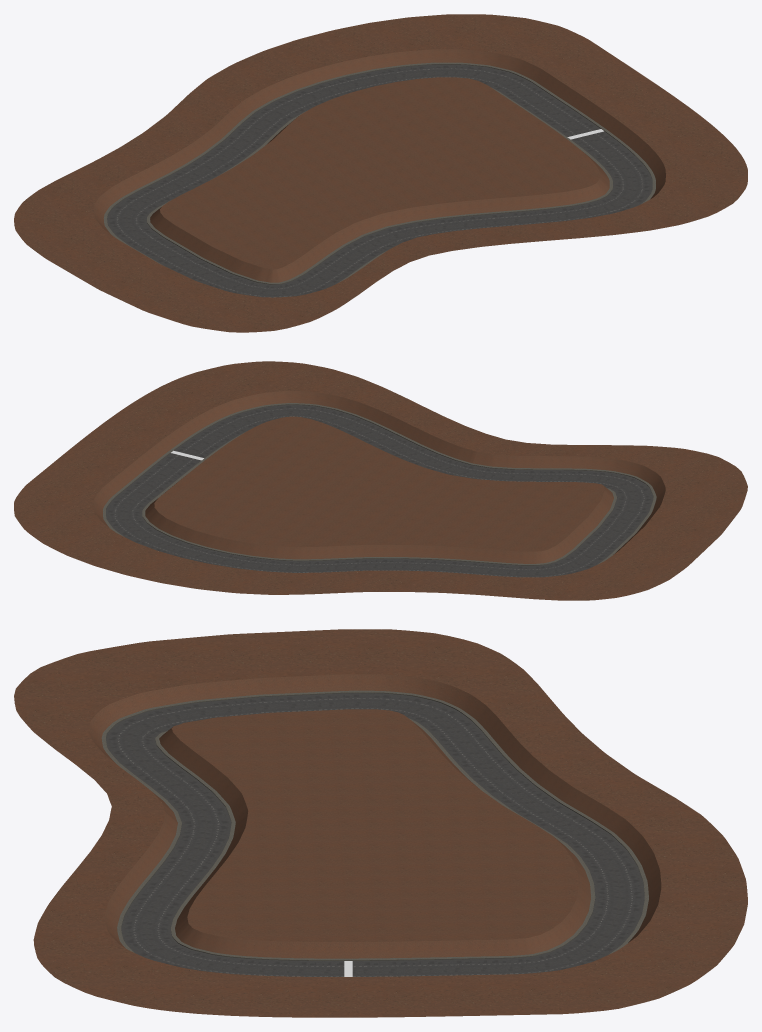
File: race_track_1.fbx
The picture shows the model from 3 angles, top to bottom: view 1: azimuth 30°, elevation 25°; view 2: azimuth 150°, elevation 25°; view 3: azimuth 270°, elevation 25°; orthographic projection. The views are drawn at different scales.
Parts seen in each view (by area): view 1: Land, Land.001, Road; view 2: Land, Land.001, Road; view 3: Land, Land.001, Road.
Part boxes in pixels (box(x1,y1,x2,y2)): Land: box(14, 14, 747, 332); Land.001: box(160, 77, 599, 269); Road: box(94, 49, 665, 297); Land: box(14, 361, 747, 600); Land.001: box(154, 416, 604, 551); Road: box(93, 390, 665, 577); Land: box(14, 629, 747, 1017); Land.001: box(171, 709, 578, 941); Road: box(89, 674, 661, 976).
Size of what is drawn, in the model's own units: 22231 by 318 by 17749.
Materials: 4 (3 with a texture image).
